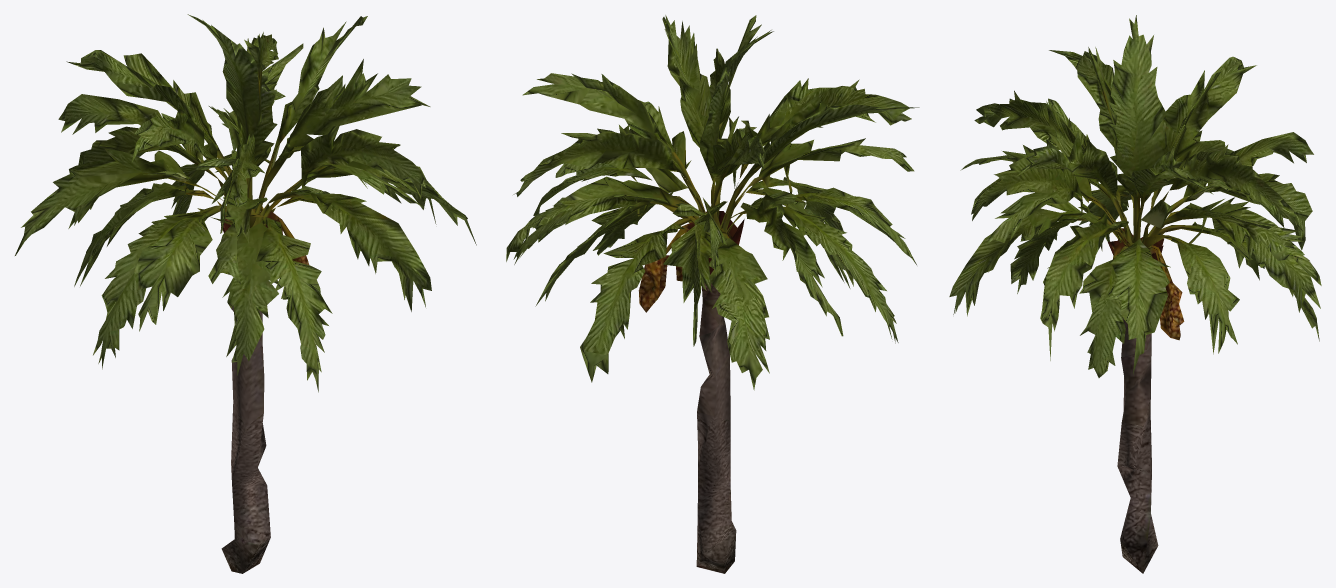
Rendered from palm.glb.
3 views of the same model, side by side, from view 1: azimuth 30°, elevation 25°; view 2: azimuth 150°, elevation 25°; view 3: azimuth 270°, elevation 25° (orthographic). The views are drawn at different scales.
Visible parts, largest first — view 1: tripo_node_ed8ef0e9-7ec3-41e8-8e82-c4a0b6d7cad4; view 2: tripo_node_ed8ef0e9-7ec3-41e8-8e82-c4a0b6d7cad4; view 3: tripo_node_ed8ef0e9-7ec3-41e8-8e82-c4a0b6d7cad4.
Boxes of the visible parts, left/top/right/bottom form: tripo_node_ed8ef0e9-7ec3-41e8-8e82-c4a0b6d7cad4: left=15, top=14, right=476, bottom=573; tripo_node_ed8ef0e9-7ec3-41e8-8e82-c4a0b6d7cad4: left=506, top=15, right=919, bottom=573; tripo_node_ed8ef0e9-7ec3-41e8-8e82-c4a0b6d7cad4: left=949, top=15, right=1321, bottom=573.
Size of the model in its own units: 0.6773 by 1 by 0.6417.
1 material, 1 textured.
